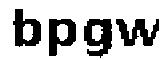b: (10, 3, 42, 51)
g: (81, 18, 117, 60)
p: (47, 16, 76, 60)
w: (116, 14, 160, 48)
